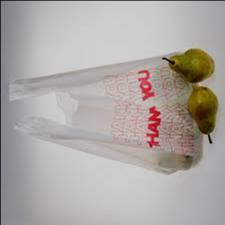Plastic: (4, 48, 210, 166)
